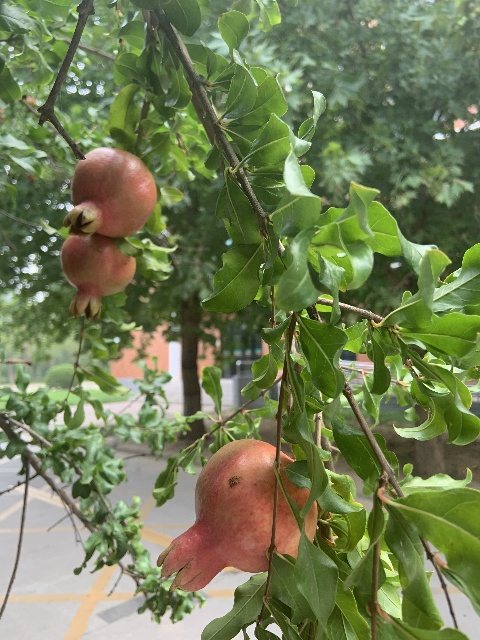ripe: (153, 438, 315, 592), (66, 147, 156, 240), (60, 233, 136, 319)
